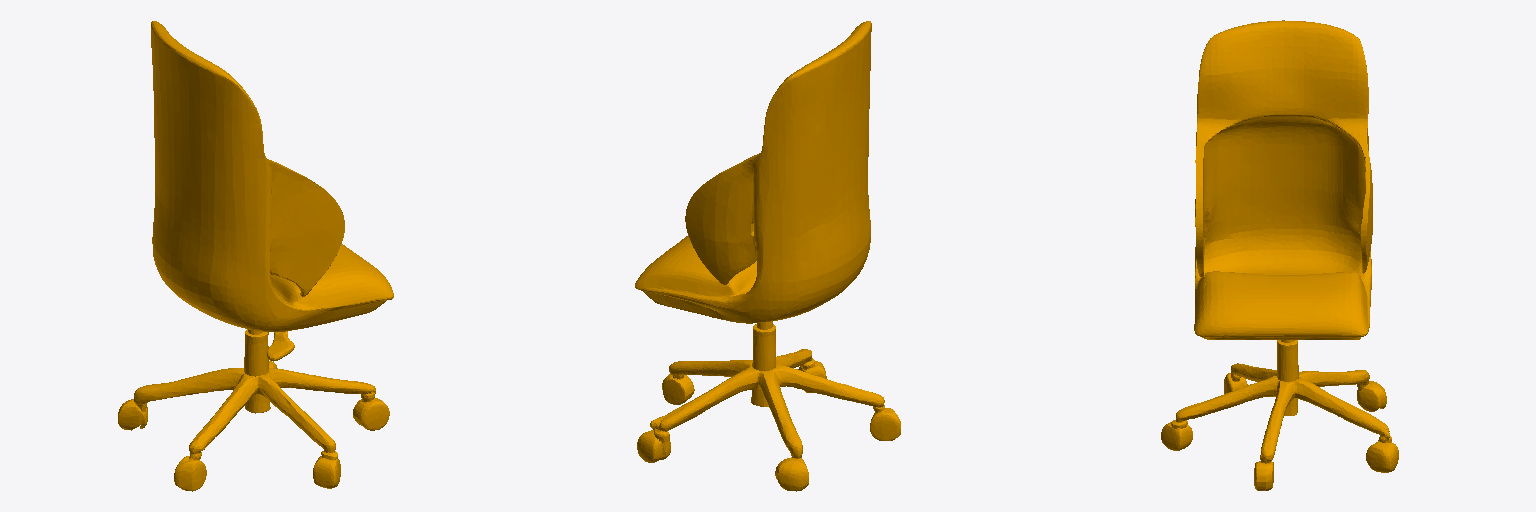
The robot description file, URDF, robot "office_chair_16":
<?xml version="1.0" ?>
<robot name="office_chair_16">
   <link name="office_chair_16">
      <visual>
         <origin xyz="0 0 0" rpy="1.5708 0.0 0.0"/>
         <geometry>
            <mesh filename="mesh/office_chair_16.obj" scale="1.0 1.0 1.0"/>
         </geometry>
      </visual>
      <collision>
         <origin xyz="0 0 0" rpy="1.5708 0.0 0.0"/>
         <geometry>
            <mesh filename="mesh/office_chair_16_collision.obj" scale="1.0 1.0 1.0"/>
         </geometry>
         <gazebo>
            <mu1>0.80</mu1>
            <mu2>0.60</mu2>
         </gazebo>
      </collision>
      <inertial>
         <mass value="12.5000"/>
         <origin xyz="0 0 0"/>
         <inertia ixx="1.0" ixy="0.0" ixz="0.0" iyy="1.0" iyz="0.0" izz="1.0"/>
      </inertial>
      <extra_info>
         <scale>1.100000</scale>
         <version>v0.1.5</version>
         <category>office_chair</category>
         <description>modern ergonomic office chair with high backrest and wheeled base</description>
         <min_height>1.0</min_height>
         <max_height>1.2</max_height>
         <real_height>1.1</real_height>
         <min_mass>10.0</min_mass>
         <max_mass>15.0</max_mass>
         <generate_time>20251021114215</generate_time>
         <gs_model>mesh/office_chair_16_gs.ply</gs_model>
      </extra_info>
   </link>
   <custom_data>
      <quality>
         <MeshGeoChecker>YES</MeshGeoChecker>
         <ImageSegChecker>YES</ImageSegChecker>
         <ImageAestheticChecker>4.905901074409485</ImageAestheticChecker>
         <overall>YES</overall>
      </quality>
   </custom_data>
</robot>

--- Facts derived from the render (not from the file) ---
The picture shows the robot from 3 angles, left to right: view 1: azimuth 30°, elevation 25°; view 2: azimuth 150°, elevation 25°; view 3: azimuth 270°, elevation 25°; orthographic projection.
Model office_chair_16 with 1 links and 0 joints (none), rooted at office_chair_16, posed every joint at zero.
Links seen in each view (by area): view 1: office_chair_16; view 2: office_chair_16; view 3: office_chair_16.
Link boxes in pixels (x1=…): office_chair_16: x1=118, y1=21, x2=393, y2=491; office_chair_16: x1=635, y1=21, x2=900, y2=491; office_chair_16: x1=1161, y1=20, x2=1398, y2=490.
Size in the robot's own frame: 0.6242 by 0.6177 by 1.1 metres.
1 mesh visuals loaded from 1 distinct referenced files (1 OBJ).
